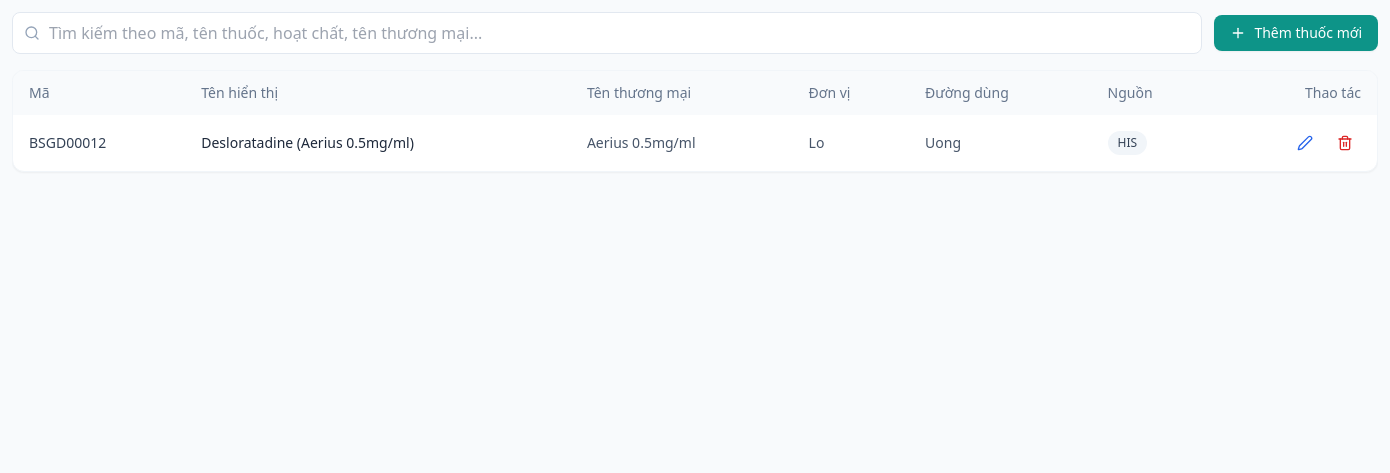
Scenario: MedicineCatalogManager › shows a read-only derived display name preview in the manual form
Click the button "Thêm thuốc mới": (1296, 33) [1214,15,1378,51]
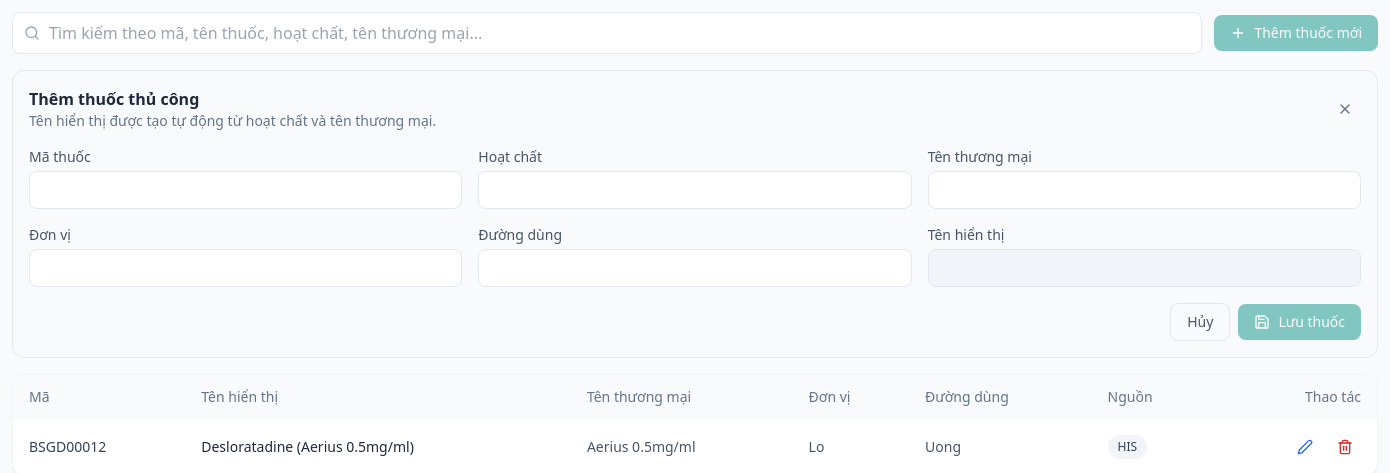
In the field labelled "Hoạt chất": (695, 190) [478,171,912,209], type "Amlodipine"
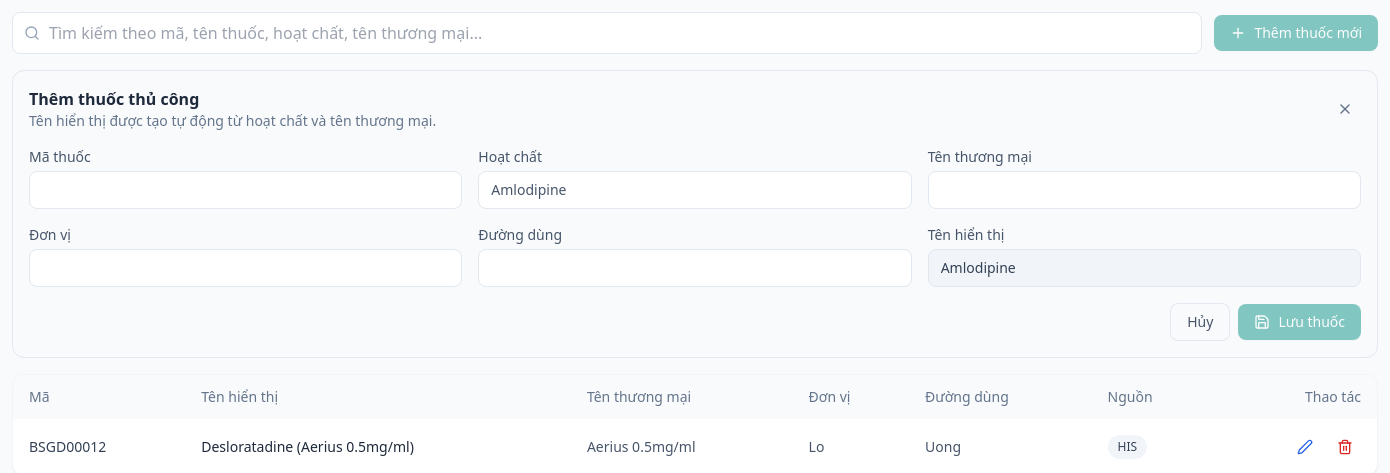
In the field labelled "Tên thương mại": (1144, 190) [928,171,1361,209], type "Norvasc 5mg"
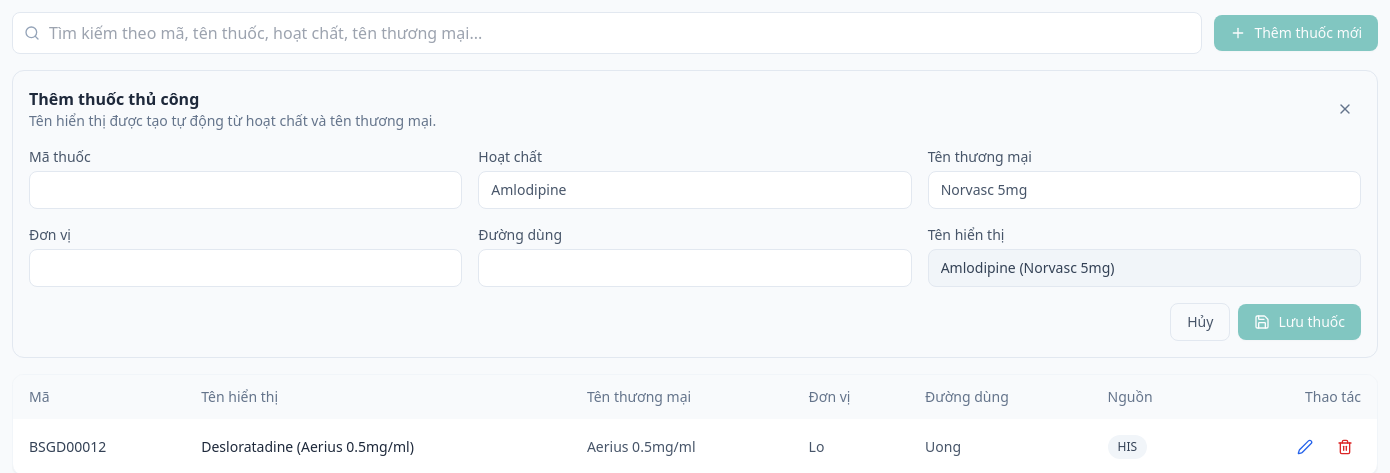
Result: the field labelled "Tên hiển thị" holds "Amlodipine (Norvasc 5mg)" at [928,249,1361,287]
